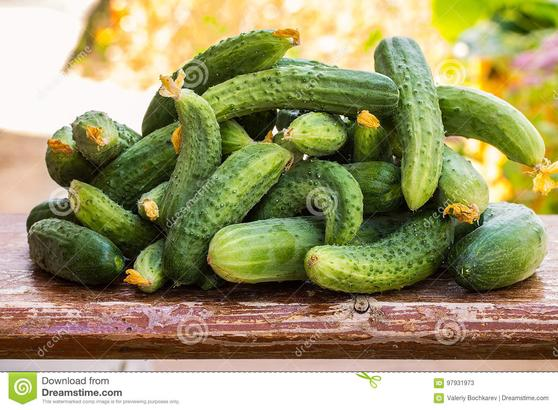cucumber: (369, 26, 456, 213), (193, 59, 403, 120), (312, 213, 463, 296), (153, 71, 227, 210)
